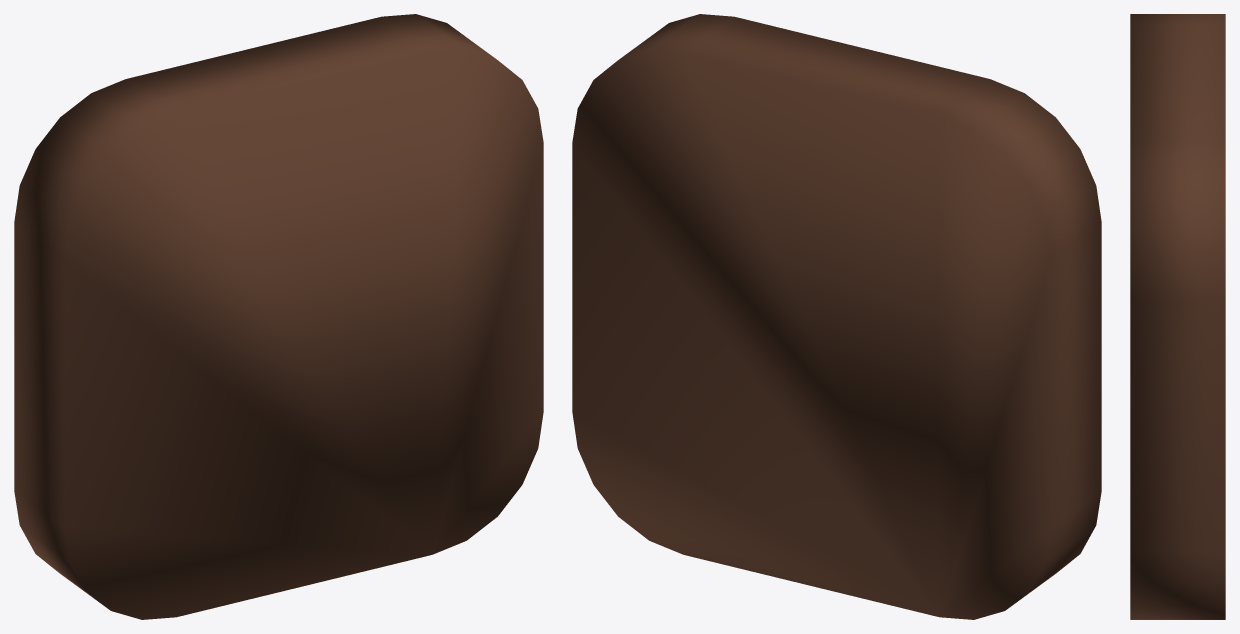
File: fundo botao.fbx
3 views of the same model, side by side, from view 1: azimuth 30°, elevation 25°; view 2: azimuth 150°, elevation 25°; view 3: azimuth 270°, elevation 25° (orthographic). The views are drawn at different scales.
Visible parts, largest first — view 1: fundo botao; view 2: fundo botao; view 3: fundo botao.
Boxes of the visible parts, x1,y1,x2,y2 form: fundo botao: (14, 14, 543, 619); fundo botao: (572, 14, 1101, 619); fundo botao: (1130, 14, 1225, 619).
Bounding box in the file's own units: 200 × 200 × 36.82.
